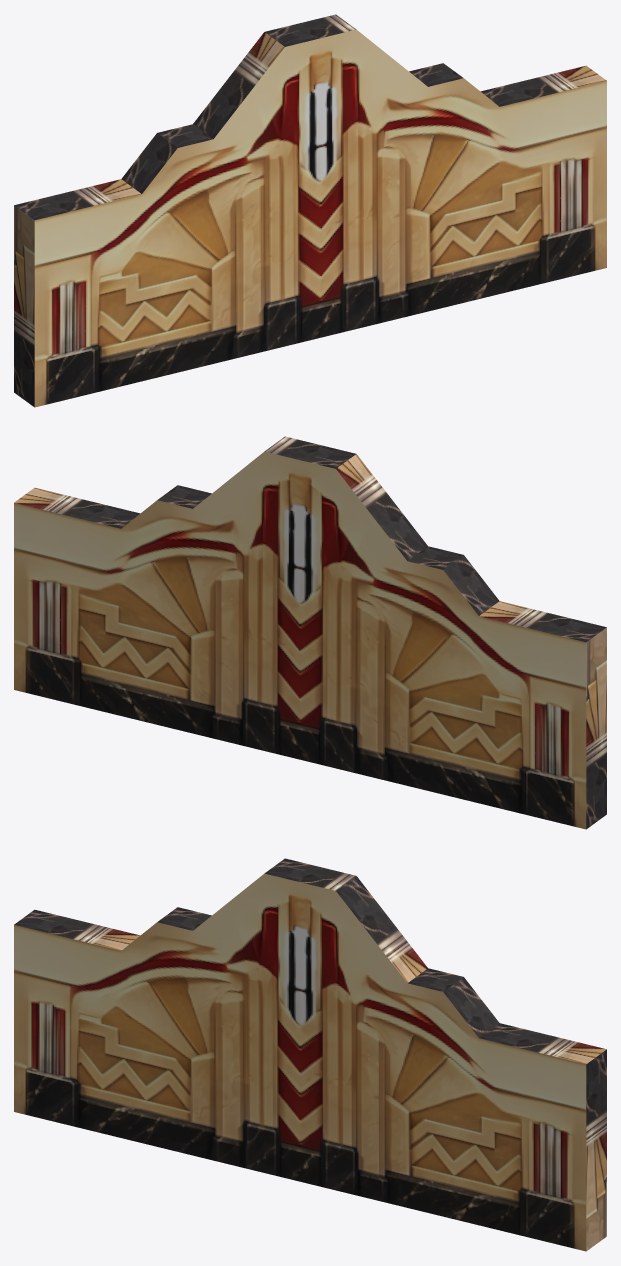
The model's file is DECO_CrestA.fbx.
The picture shows the model from 3 angles, top to bottom: view 1: azimuth 30°, elevation 25°; view 2: azimuth 150°, elevation 25°; view 3: azimuth 330°, elevation 25°; orthographic projection.
Visible parts, largest first — view 1: DECO_CrestA; view 2: DECO_CrestA; view 3: DECO_CrestA.
Part boxes in pixels (bbox=[...]): DECO_CrestA: bbox=[14, 14, 606, 407]; DECO_CrestA: bbox=[14, 436, 606, 829]; DECO_CrestA: bbox=[14, 858, 606, 1251].
Size of the model in its own units: 4 by 0.25 by 2.
Materials: 1 (1 with a texture image).
